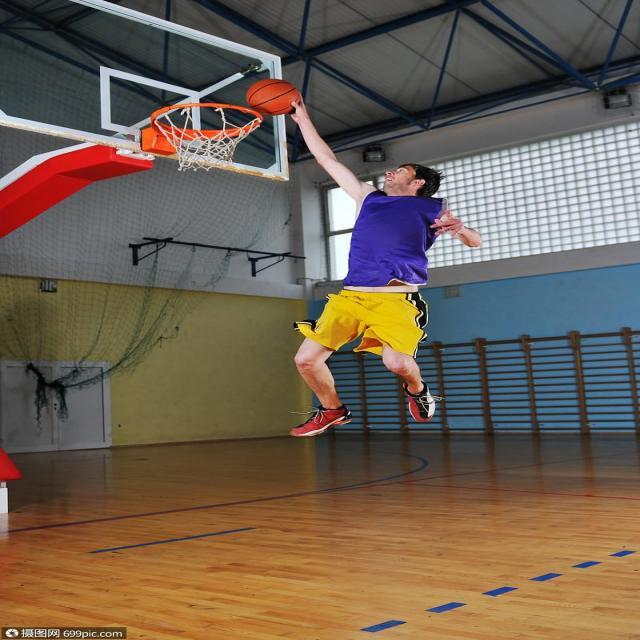rim: (246, 77, 300, 115)
